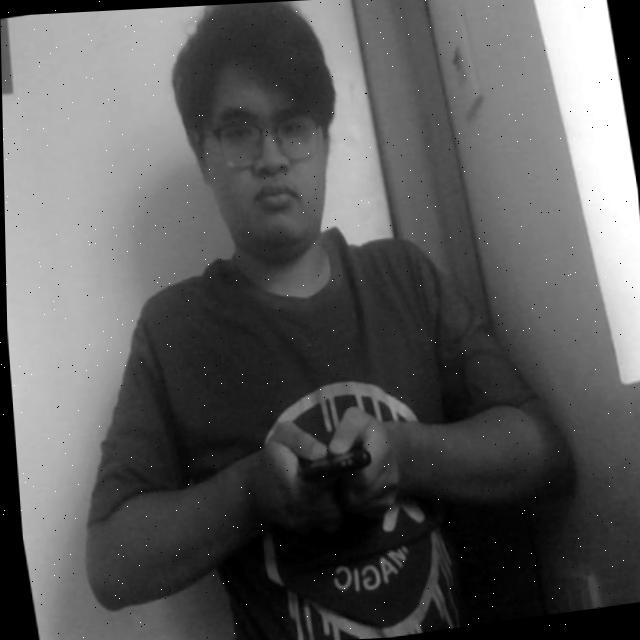phone: (280, 402, 379, 519)
